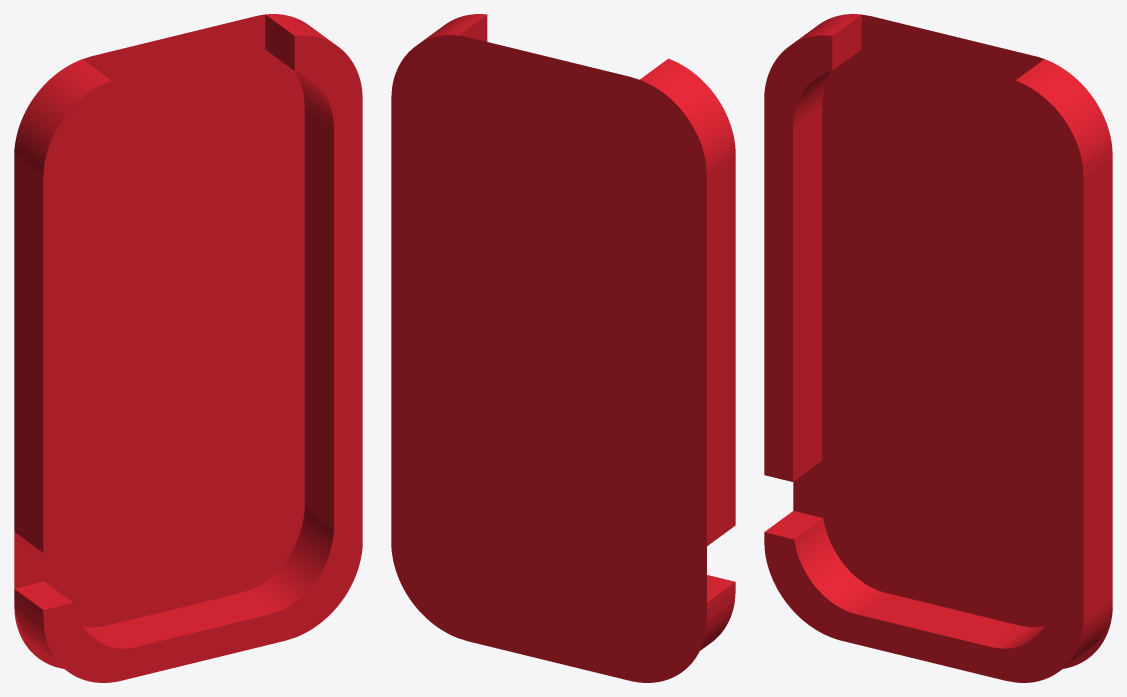
The model's file is frame.obj.
3 renders of one model, left to right at view 1: azimuth 30°, elevation 25°; view 2: azimuth 150°, elevation 25°; view 3: azimuth 330°, elevation 25°, orthographic.
Parts seen in each view (by area): view 1: obj_0, obj_1; view 2: obj_0, obj_1; view 3: obj_0, obj_1.
Boxes of the visible parts, x1,y1,x2,y2 form: obj_0: (14,48,304,668); obj_1: (14,14,362,682); obj_0: (391,43,706,682); obj_1: (391,14,735,674); obj_0: (822,48,1112,668); obj_1: (764,14,1112,682).
Bounding box in the file's own units: 82 × 150 × 13.
